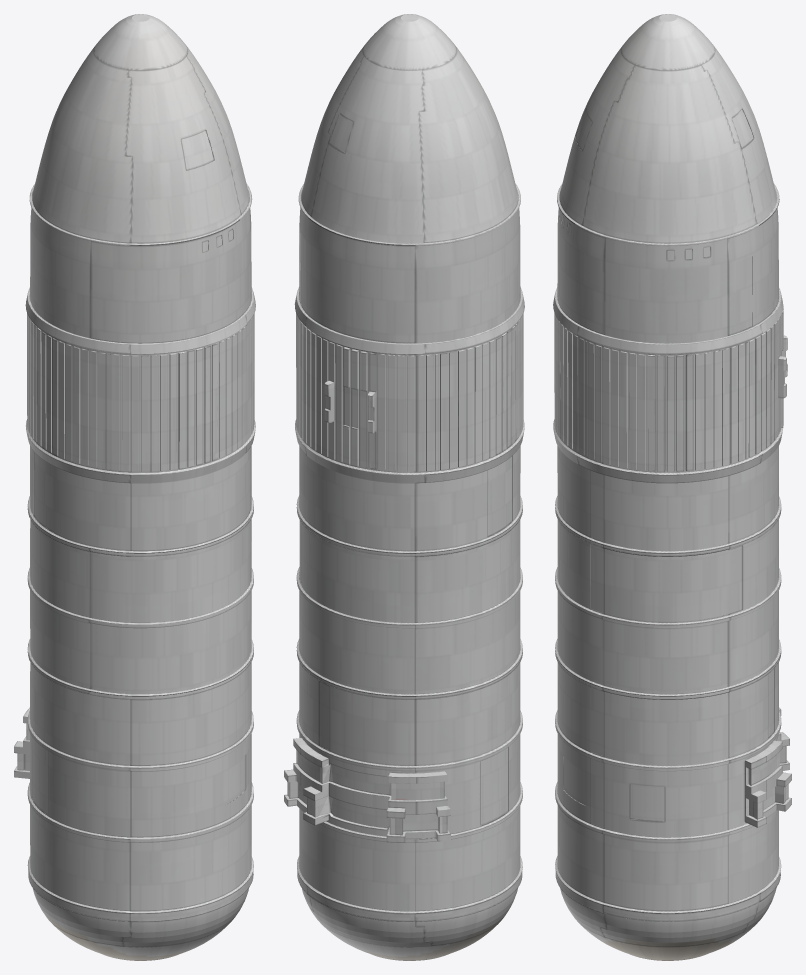
Rendered from motor_central.obj.
3 views of the same model, side by side, from view 1: azimuth 30°, elevation 25°; view 2: azimuth 150°, elevation 25°; view 3: azimuth 270°, elevation 25° (orthographic).
Visible parts, largest first — view 1: motor_central; view 2: motor_central; view 3: motor_central.
Part boxes in pixels (x1=…): motor_central: x1=14, y1=14, x2=255, y2=960; motor_central: x1=284, y1=14, x2=524, y2=960; motor_central: x1=553, y1=14, x2=791, y2=960.
Bounding box in the file's own units: 7.82 × 34.74 × 8.11.
1 material, 1 textured.
